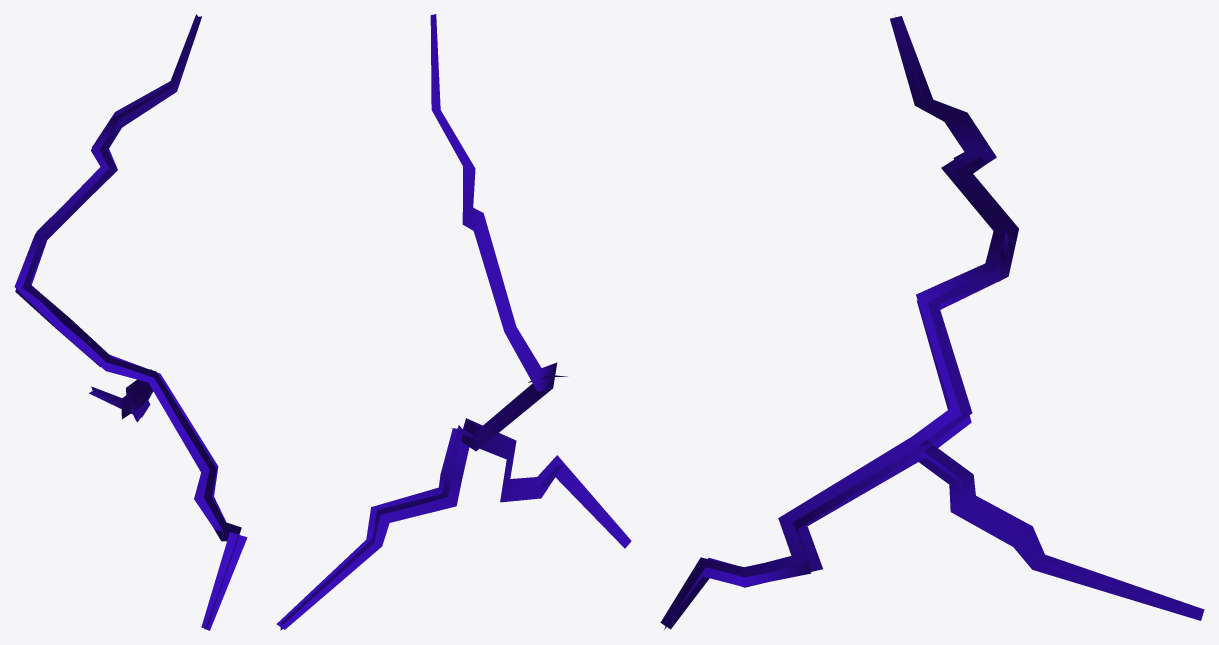
The model's file is SM_EFF_Lightning_B_04.mo.fbx.
The picture shows the model from 3 angles, left to right: view 1: azimuth 30°, elevation 25°; view 2: azimuth 150°, elevation 25°; view 3: azimuth 270°, elevation 25°; orthographic projection. The views are drawn at different scales.
Visible parts, largest first — view 1: SM_EFF_Lightning_B_04.mo; view 2: SM_EFF_Lightning_B_04.mo; view 3: SM_EFF_Lightning_B_04.mo.
Part boxes in pixels (box(x1,y1,x2,y2)): SM_EFF_Lightning_B_04.mo: box(14, 14, 247, 630); SM_EFF_Lightning_B_04.mo: box(276, 14, 631, 630); SM_EFF_Lightning_B_04.mo: box(660, 16, 1204, 629).
Bounding box in the file's own units: 1.45 × 4.42 × 3.28.
